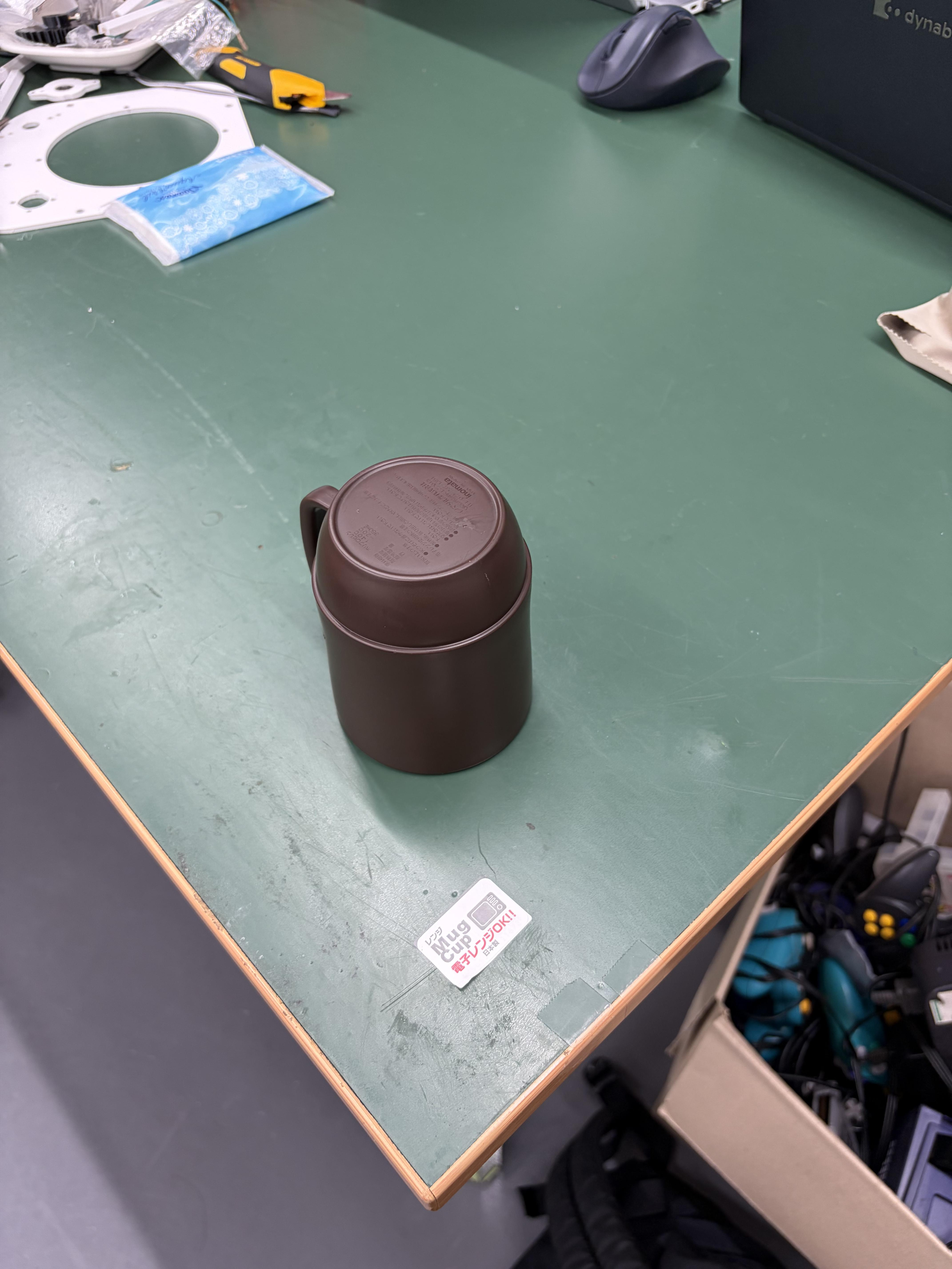mug-real100-3d100: (300, 456, 532, 774)
